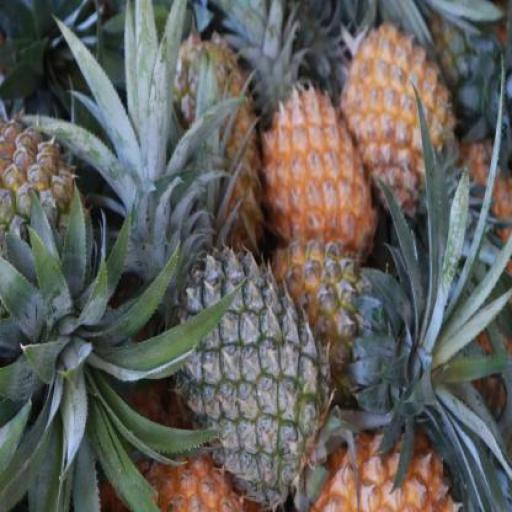------------------------------: (0, 114, 90, 344)
Pineapple - v8 v1: (344, 24, 456, 232), (262, 78, 376, 260)
